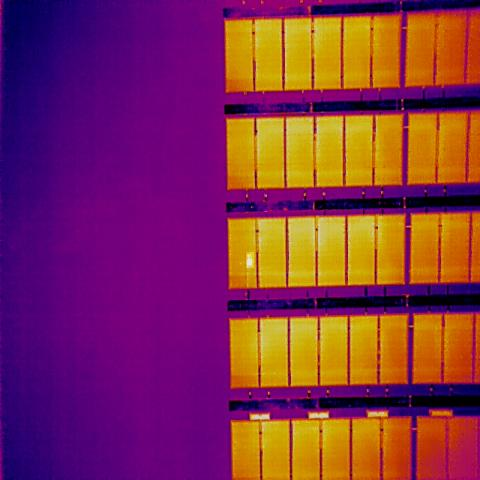fault: (246, 252, 254, 268)
